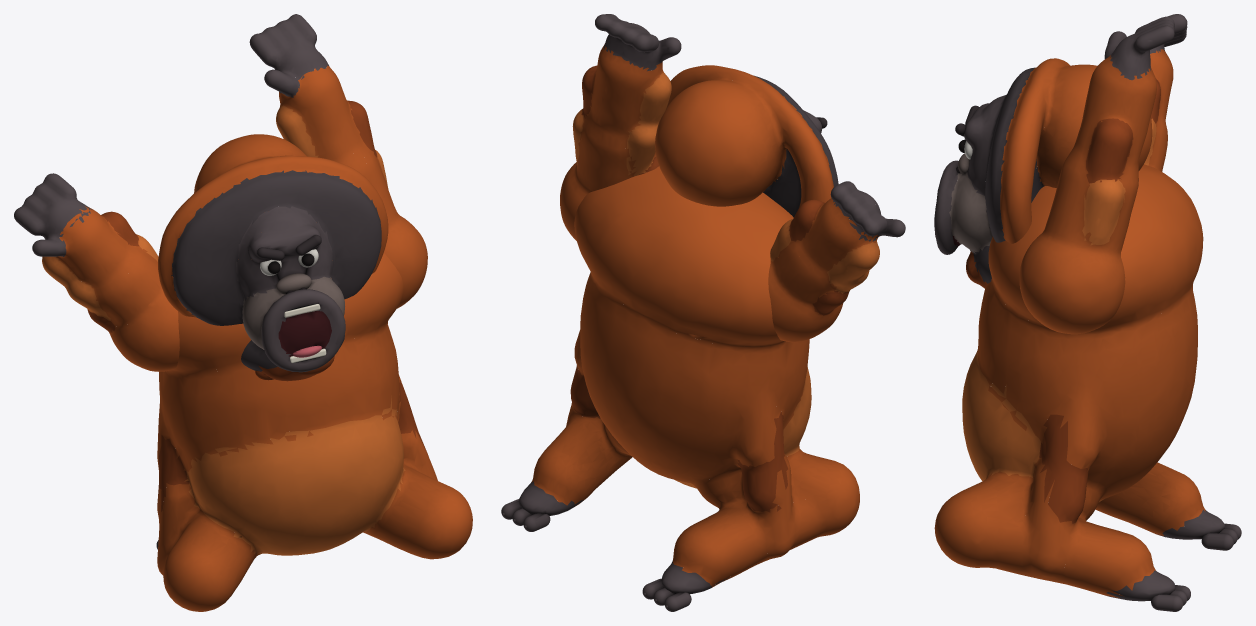
The model's file is jag-behover-ett-bankid.glb.
The picture shows the model from 3 angles, left to right: view 1: azimuth 30°, elevation 25°; view 2: azimuth 150°, elevation 25°; view 3: azimuth 270°, elevation 25°; orthographic projection. The views are drawn at different scales.
Visible parts, largest first — view 1: orangotango__r0, cabeca__r0, bracoD__r0, bracoBarra__r0; view 2: orangotango__r0, cabeca__r0, bracoBarra__r0, bracoD__r0; view 3: orangotango__r0, bracoBarra__r0, cabeca__r0, bracoD__r0, orangotango__r3, orangotango__r6.
Boxes of the visible parts, x1,y1,x2,y2 form: orangotango__r0: (157, 252, 472, 611); cabeca__r0: (158, 134, 388, 381); bracoD__r0: (14, 173, 179, 371); bracoBarra__r0: (249, 14, 427, 308); orangotango__r0: (519, 166, 859, 593); cabeca__r0: (655, 65, 838, 217); bracoBarra__r0: (560, 14, 681, 240); bracoD__r0: (768, 181, 905, 342); orangotango__r0: (934, 164, 1224, 601); bracoBarra__r0: (1019, 16, 1174, 334); cabeca__r0: (934, 58, 1152, 288); bracoD__r0: (1144, 14, 1187, 171); orangotango__r3: (1201, 532, 1233, 550); orangotango__r6: (1151, 594, 1183, 611).
Bounding box in the file's own units: 1.56 × 2.14 × 1.05.
